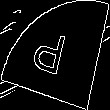P_S: (34, 25, 76, 85)
